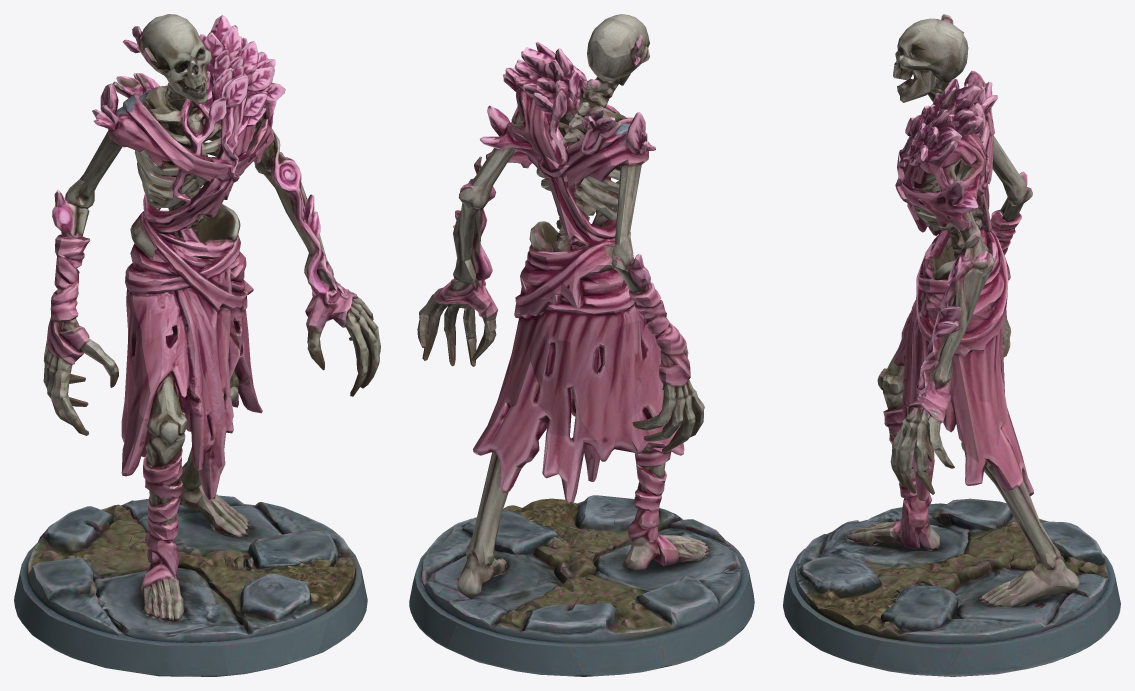
The model's file is banshee.glb.
3 views of the same model, side by side, from view 1: azimuth 30°, elevation 25°; view 2: azimuth 150°, elevation 25°; view 3: azimuth 270°, elevation 25° (orthographic). The views are drawn at different scales.
Visible parts, largest first — view 1: output_unwrapped; view 2: output_unwrapped; view 3: output_unwrapped.
Part boxes in pixels (x1=…): output_unwrapped: x1=14, y1=14, x2=380, y2=676; output_unwrapped: x1=409, y1=14, x2=754, y2=676; output_unwrapped: x1=783, y1=14, x2=1120, y2=676.
Bounding box in the file's own units: 1.08 × 1.9 × 1.02.
1 material, 1 textured.
